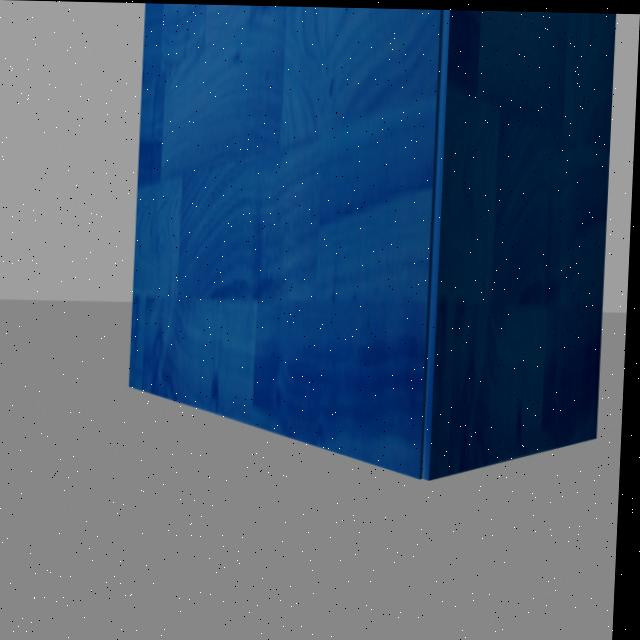shelf: (101, 2, 637, 506)
